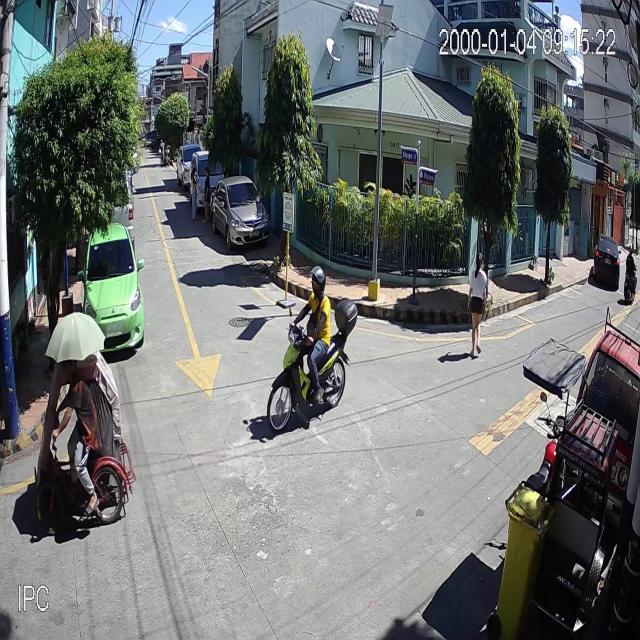standing: (188, 166, 201, 221), (202, 166, 213, 223), (159, 139, 166, 165)
walking: (467, 252, 488, 364)
